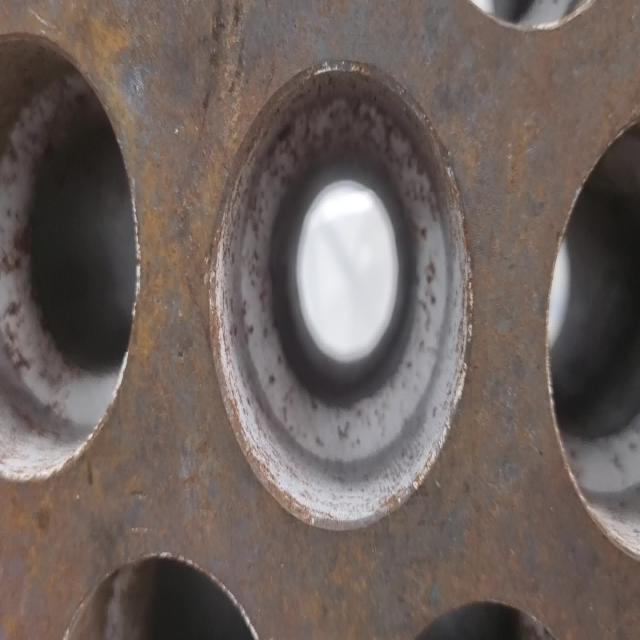Hole: (207, 50, 472, 536), (0, 31, 140, 484), (546, 62, 639, 628), (47, 551, 283, 639)
